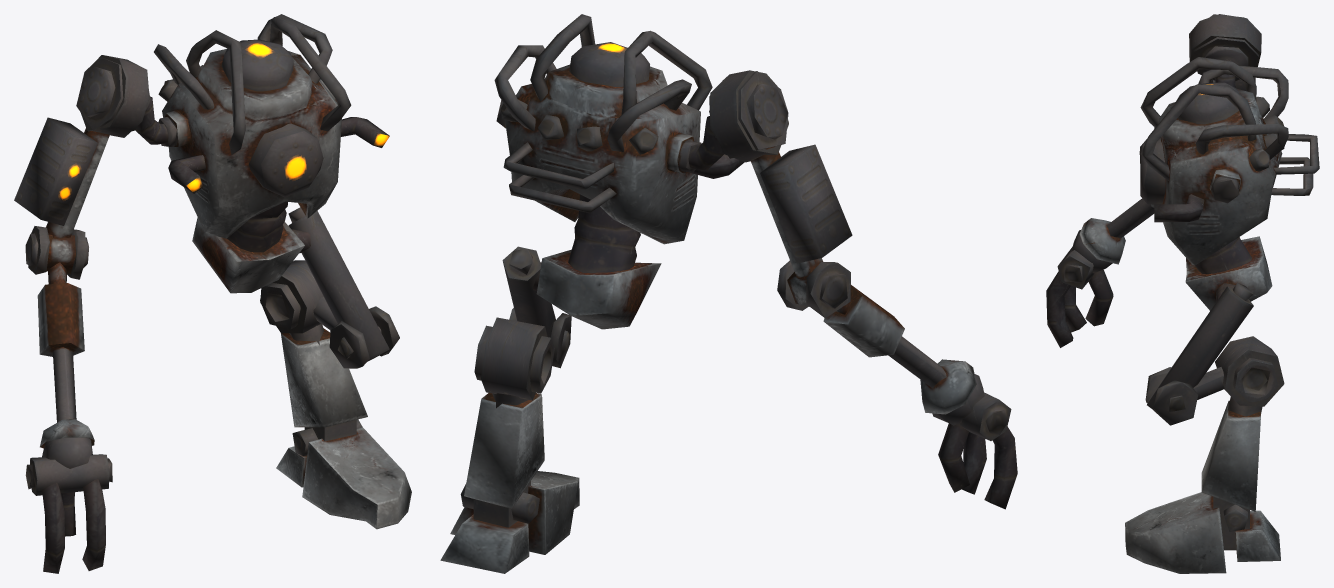
The model's file is Enemy.fbx.
3 views of the same model, side by side, from view 1: azimuth 30°, elevation 25°; view 2: azimuth 150°, elevation 25°; view 3: azimuth 270°, elevation 25° (orthographic). The views are drawn at different scales.
Visible parts, largest first — view 1: FBotmesh, FBotmesh.011, FBotmesh.003, FBotmesh.001, FBotmesh.013, FBotmesh.006, FBotmesh.007, FBotmesh.009, FBotmesh.010, FBotmesh.002, FBotmesh.012; view 2: FBotmesh, FBotmesh.011, FBotmesh.003, FBotmesh.001, FBotmesh.013, FBotmesh.006, FBotmesh.009, FBotmesh.010, FBotmesh.007, FBotmesh.002, FBotmesh.012; view 3: FBotmesh, FBotmesh.003, FBotmesh.006, FBotmesh.001, FBotmesh.013, FBotmesh.007, FBotmesh.011, FBotmesh.009, FBotmesh.002.
Boxes of the visible parts, x1,y1,x2,y2 form: FBotmesh: (154,14,389,252); FBotmesh.011: (14,55,150,279); FBotmesh.003: (276,419,411,529); FBotmesh.001: (25,418,112,573); FBotmesh.013: (281,324,367,427); FBotmesh.006: (260,260,399,368); FBotmesh.007: (288,207,389,361); FBotmesh.009: (192,217,304,293); FBotmesh.010: (37,262,84,356); FBotmesh.002: (52,347,76,422); FBotmesh.012: (135,96,168,144); FBotmesh: (494,14,744,272); FBotmesh.011: (709,70,852,318); FBotmesh.003: (440,471,579,573); FBotmesh.001: (920,359,1017,509); FBotmesh.013: (464,393,544,508); FBotmesh.006: (474,308,571,400); FBotmesh.009: (536,249,661,329); FBotmesh.010: (823,285,904,357); FBotmesh.007: (502,246,555,337); FBotmesh.002: (888,336,946,388); FBotmesh.012: (688,116,724,170); FBotmesh: (1139,57,1319,273); FBotmesh.003: (1125,492,1280,573); FBotmesh.006: (1145,336,1284,425); FBotmesh.001: (1046,218,1125,347); FBotmesh.013: (1201,396,1262,511); FBotmesh.007: (1147,282,1253,409); FBotmesh.011: (1189,14,1261,91); FBotmesh.009: (1185,236,1272,310); FBotmesh.002: (1106,198,1154,238).
Bounding box in the file's own units: 371 × 398 × 223.
